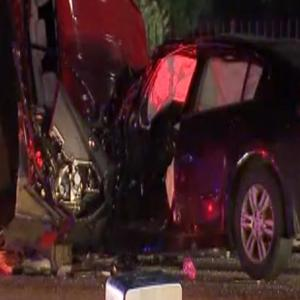fatal: (0, 0, 300, 270)
